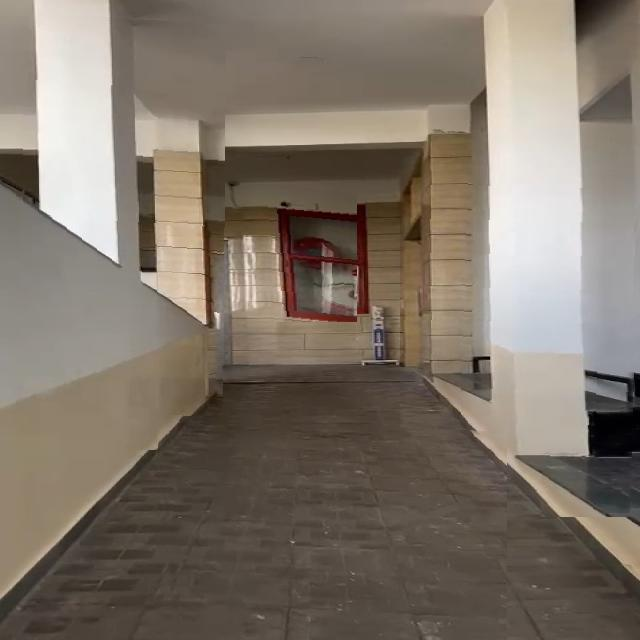door: (262, 183, 357, 322)
floor: (155, 414, 507, 640)
wall: (16, 11, 226, 450), (400, 167, 640, 517)
